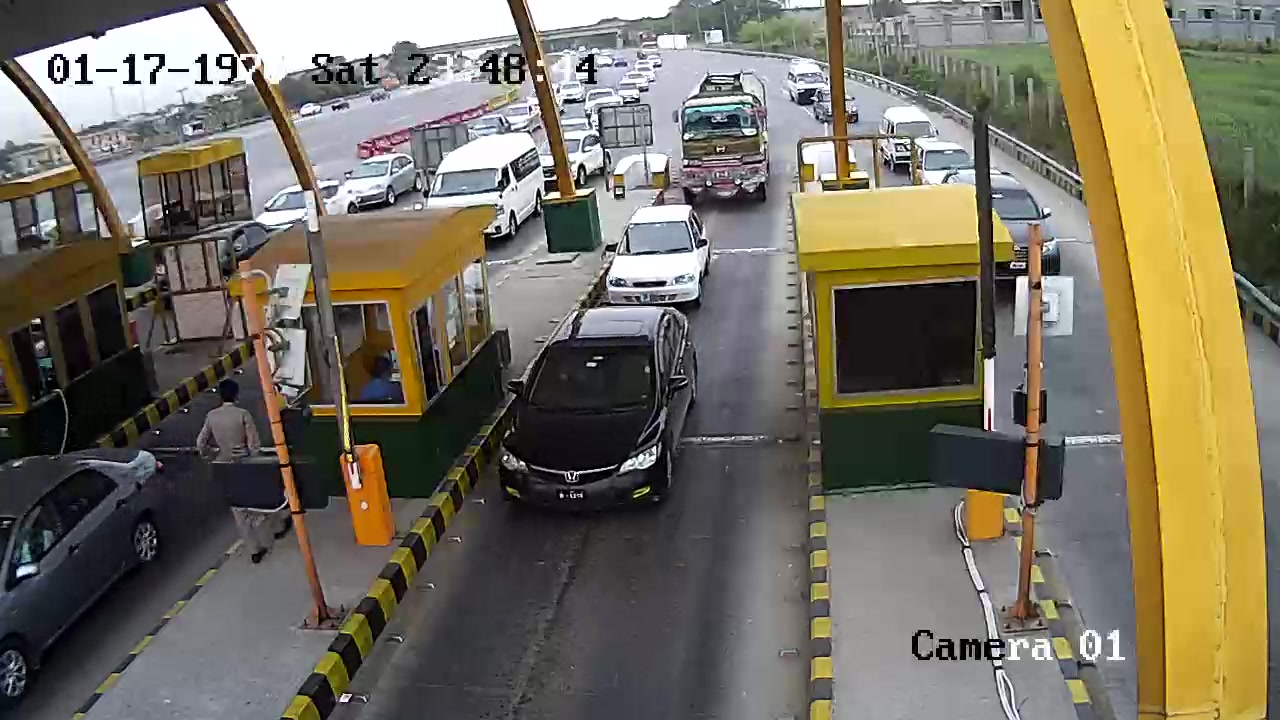F1: (495, 307, 711, 524)
